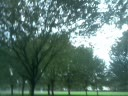window: (25, 66, 37, 81), (61, 83, 71, 96)
